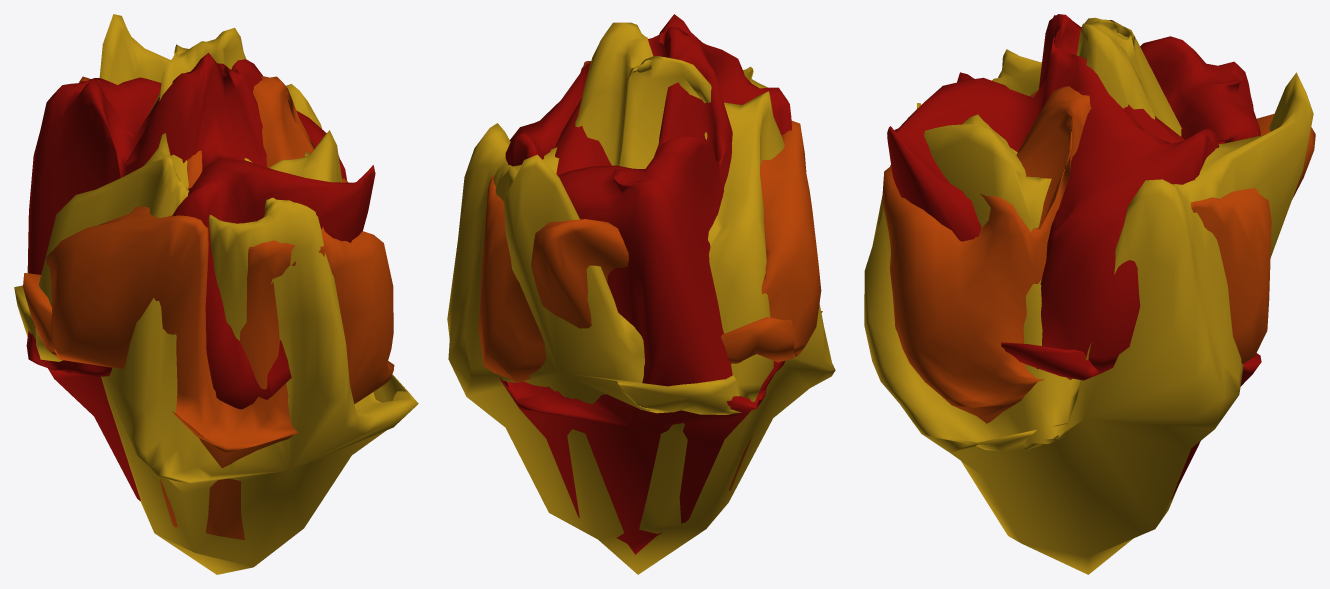
The model's file is Fire v3.fbx.
3 renders of one model, left to right at view 1: azimuth 30°, elevation 25°; view 2: azimuth 150°, elevation 25°; view 3: azimuth 270°, elevation 25°, orthographic. The views are drawn at different scales.
Visible parts, largest first — view 1: yellowFire, OrangeFire, centerfire; view 2: yellowFire, centerfire, OrangeFire; view 3: yellowFire, centerfire, OrangeFire.
Part boxes in pixels (<box>): yellowFire: <box>14,14,418,574</box>; OrangeFire: <box>23,76,394,540</box>; centerfire: <box>26,53,375,501</box>; yellowFire: <box>447,22,835,574</box>; centerfire: <box>500,14,791,554</box>; OrangeFire: <box>478,61,822,490</box>; yellowFire: <box>864,17,1313,574</box>; centerfire: <box>887,14,1261,499</box>; OrangeFire: <box>882,86,1315,423</box>.
Size of the model in its own units: 322 by 529 by 390.
